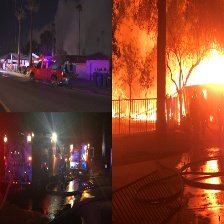fire: (112, 49, 224, 120)
